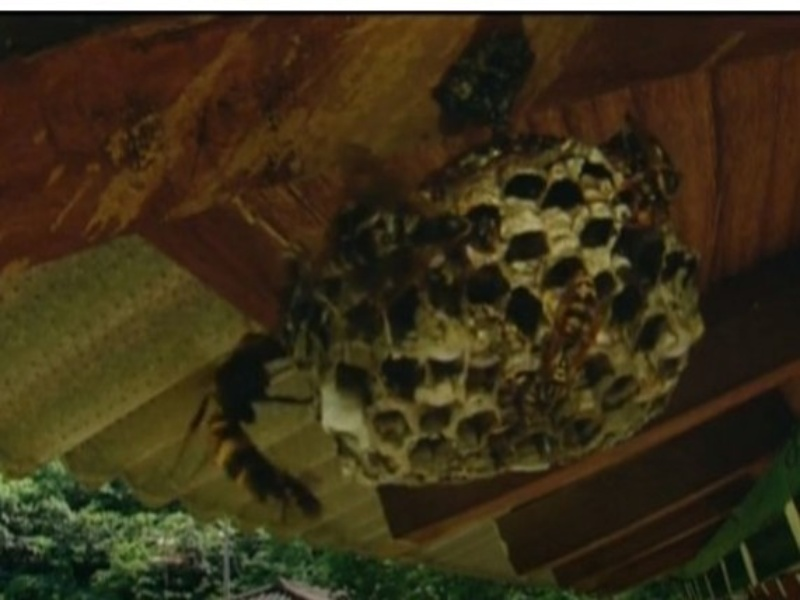asian_giant_hornet: (179, 340, 331, 519), (525, 267, 615, 420), (321, 207, 513, 278), (608, 108, 682, 230)
